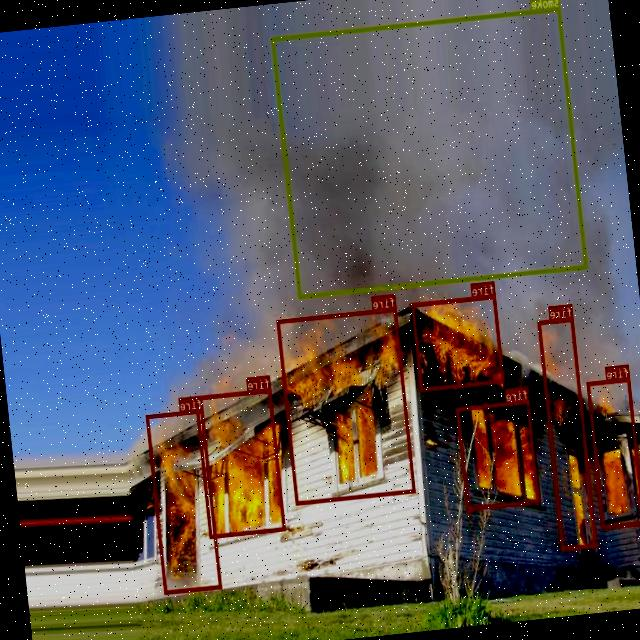fire: (277, 306, 416, 504), (146, 408, 222, 592), (537, 317, 597, 550), (195, 388, 286, 537), (456, 399, 540, 510), (412, 293, 504, 390), (587, 376, 640, 528)
smoke: (271, 6, 588, 298)
